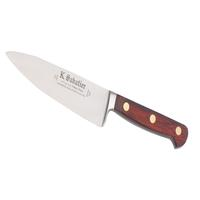knife: (3, 45, 184, 153)
